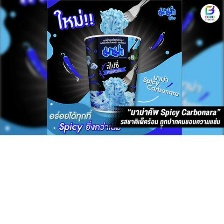paper_cup: (80, 31, 144, 116)
